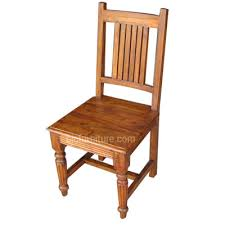tiyarina: (46, 1, 167, 212)
